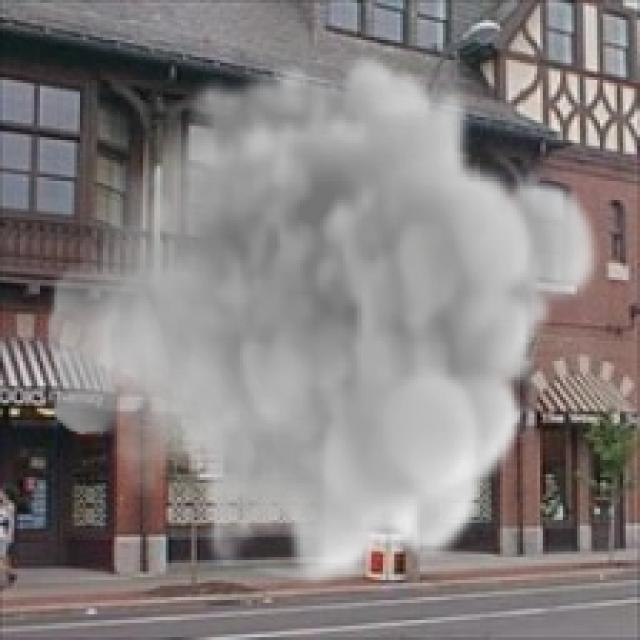smoke: (43, 51, 606, 588)
